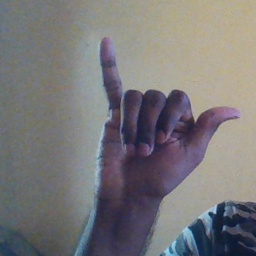J: (86, 31, 243, 192)
